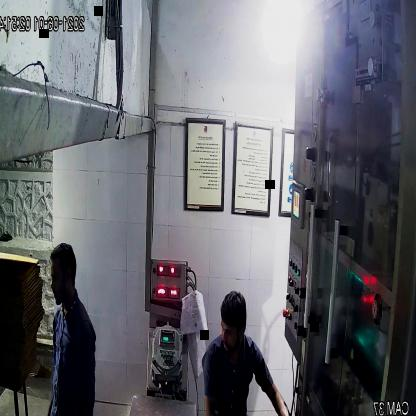no_goggles: (218, 316, 249, 342)
